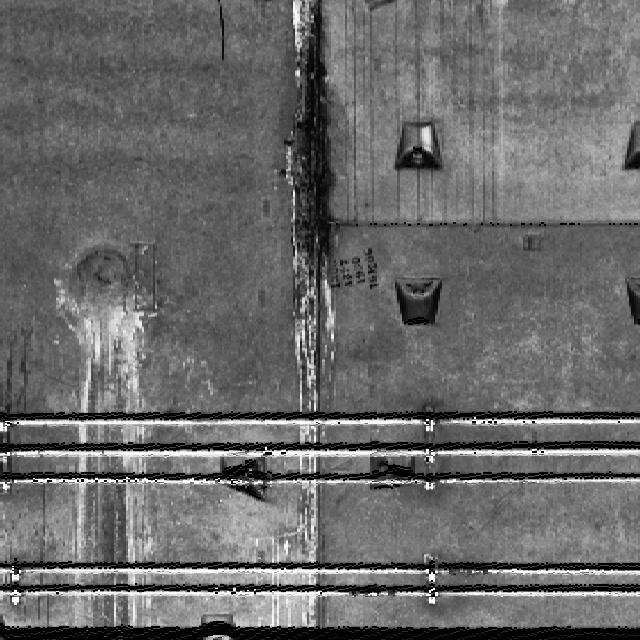leakage: (275, 0, 352, 428)
